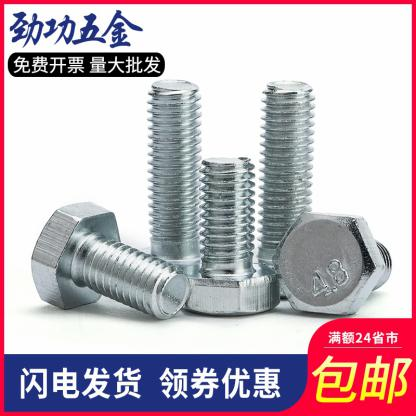FOD: (124, 78, 219, 309), (30, 197, 192, 322), (245, 75, 330, 301), (182, 155, 282, 317), (271, 206, 393, 319)
